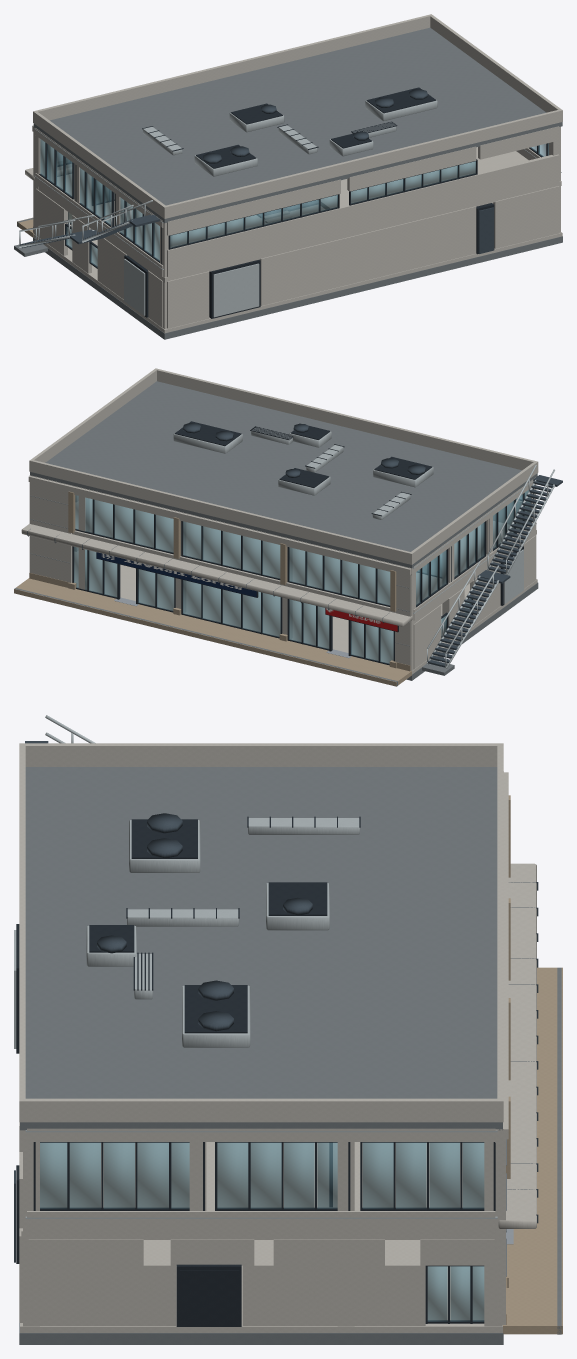
Rendered from RAIL10_hlod.glb.
3 renders of one model, top to bottom at view 1: azimuth 30°, elevation 25°; view 2: azimuth 150°, elevation 25°; view 3: azimuth 270°, elevation 25°, orthographic. The views are drawn at different scales.
Parts seen in each view (by area): view 1: Structure_RoofSlab__concrete_dark, Facade_RearUpper__concrete, Facade_RearWall__concrete, Roof_Parapet__concrete, Facade_Windows__glass, Structure_Mezzanine__concrete, Facade_RightWall__concrete, Structure_Foundation__concrete_dark, Facade_Windows__steel_black, Structure_GroundSlab__concrete, Roof_HVAC_Top__steel_black, Facade_RearShutter__steel_light (+14 smaller); view 2: Structure_RoofSlab__concrete_dark, Facade_Windows__glass, Roof_Parapet__concrete, Structure_Mezzanine__concrete, Structure_GroundSlab__concrete, Structure_PublicPaving__stone, Facade_Windows__steel_black, Facade_FrontCanopy__concrete, Facade_PrecastCornerMassing__concrete, Details_ExternalStairs__steel, Facade_RightWall__concrete, Facade_DeepUpperCornice__concrete (+20 smaller); view 3: Structure_RoofSlab__concrete_dark, Facade_LeftWall__concrete, Structure_Mezzanine__concrete, Roof_Parapet__concrete, Facade_Windows__glass, Structure_PublicPaving__stone, Facade_FrontCanopy__concrete, Facade_SideSpandrel__concrete, Structure_GroundSlab__concrete, Roof_HVAC_Top__steel_black, Facade_SideHeader__concrete, Structure_Foundation__concrete_dark (+13 smaller).
Boxes of the visible parts, x1=… form: Structure_RoofSlab__concrete_dark: x1=33, y1=27, x2=562, y2=223; Facade_RearUpper__concrete: x1=167, y1=126, x2=559, y2=277; Facade_RearWall__concrete: x1=167, y1=186, x2=559, y2=328; Roof_Parapet__concrete: x1=33, y1=14, x2=562, y2=218; Facade_Windows__glass: x1=40, y1=139, x2=548, y2=266; Structure_Mezzanine__concrete: x1=39, y1=147, x2=561, y2=282; Facade_RightWall__concrete: x1=35, y1=188, x2=162, y2=327; Structure_Foundation__concrete_dark: x1=33, y1=236, x2=562, y2=339; Facade_Windows__steel_black: x1=39, y1=142, x2=548, y2=268; Structure_GroundSlab__concrete: x1=33, y1=202, x2=562, y2=333; Roof_HVAC_Top__steel_black: x1=196, y1=87, x2=436, y2=168; Facade_RearShutter__steel_light: x1=213, y1=263, x2=259, y2=317; Structure_RoofSlab__concrete_dark: x1=30, y1=381, x2=537, y2=568; Facade_Windows__glass: x1=74, y1=490, x2=530, y2=663; Roof_Parapet__concrete: x1=29, y1=368, x2=538, y2=564; Structure_Mezzanine__concrete: x1=75, y1=499, x2=536, y2=622; Structure_GroundSlab__concrete: x1=74, y1=551, x2=537, y2=674; Structure_PublicPaving__stone: x1=14, y1=578, x2=411, y2=686; Facade_Windows__steel_black: x1=72, y1=488, x2=533, y2=665; Facade_FrontCanopy__concrete: x1=21, y1=524, x2=412, y2=626; Facade_PrecastCornerMassing__concrete: x1=29, y1=482, x2=411, y2=670; Details_ExternalStairs__steel: x1=428, y1=481, x2=553, y2=667; Facade_RightWall__concrete: x1=413, y1=535, x2=535, y2=669; Facade_DeepUpperCornice__concrete: x1=28, y1=476, x2=411, y2=574; Structure_RoofSlab__concrete_dark: x1=20, y1=767, x2=502, y2=1130; Facade_LeftWall__concrete: x1=28, y1=1239, x2=494, y2=1325; Structure_Mezzanine__concrete: x1=21, y1=1142, x2=501, y2=1239; Roof_Parapet__concrete: x1=19, y1=743, x2=503, y2=1122; Facade_Windows__glass: x1=40, y1=1142, x2=484, y2=1321; Structure_PublicPaving__stone: x1=503, y1=967, x2=562, y2=1334; Facade_FrontCanopy__concrete: x1=498, y1=863, x2=536, y2=1228; Facade_SideSpandrel__concrete: x1=27, y1=1208, x2=495, y2=1232; Structure_GroundSlab__concrete: x1=20, y1=1240, x2=502, y2=1332; Roof_HVAC_Top__steel_black: x1=89, y1=819, x2=327, y2=1033; Facade_SideHeader__concrete: x1=27, y1=1128, x2=495, y2=1141; Structure_Foundation__concrete_dark: x1=19, y1=1323, x2=503, y2=1344.
Size of the model in its own units: 30.16 by 9.1 by 18.14.
11 materials, 11 textured.
